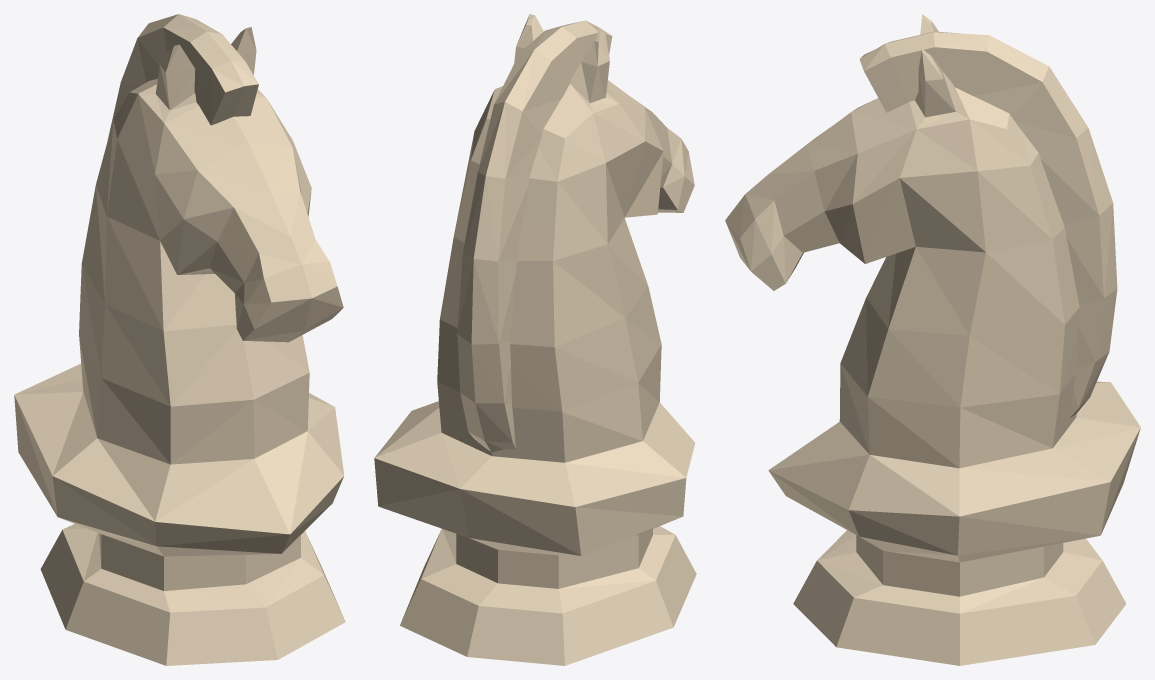
Rendered from aW5HcCo0KZa.glb.
3 renders of one model, left to right at view 1: azimuth 30°, elevation 25°; view 2: azimuth 150°, elevation 25°; view 3: azimuth 270°, elevation 25°, orthographic. The views are drawn at different scales.
Parts seen in each view (by area): view 1: Node; view 2: Node; view 3: Node.
Part boxes in pixels (<box>): Node: <box>14,14,345,665</box>; Node: <box>374,14,696,665</box>; Node: <box>725,14,1140,665</box>.
Bounding box in the file's own units: 0.5126 × 1 × 0.6593.
